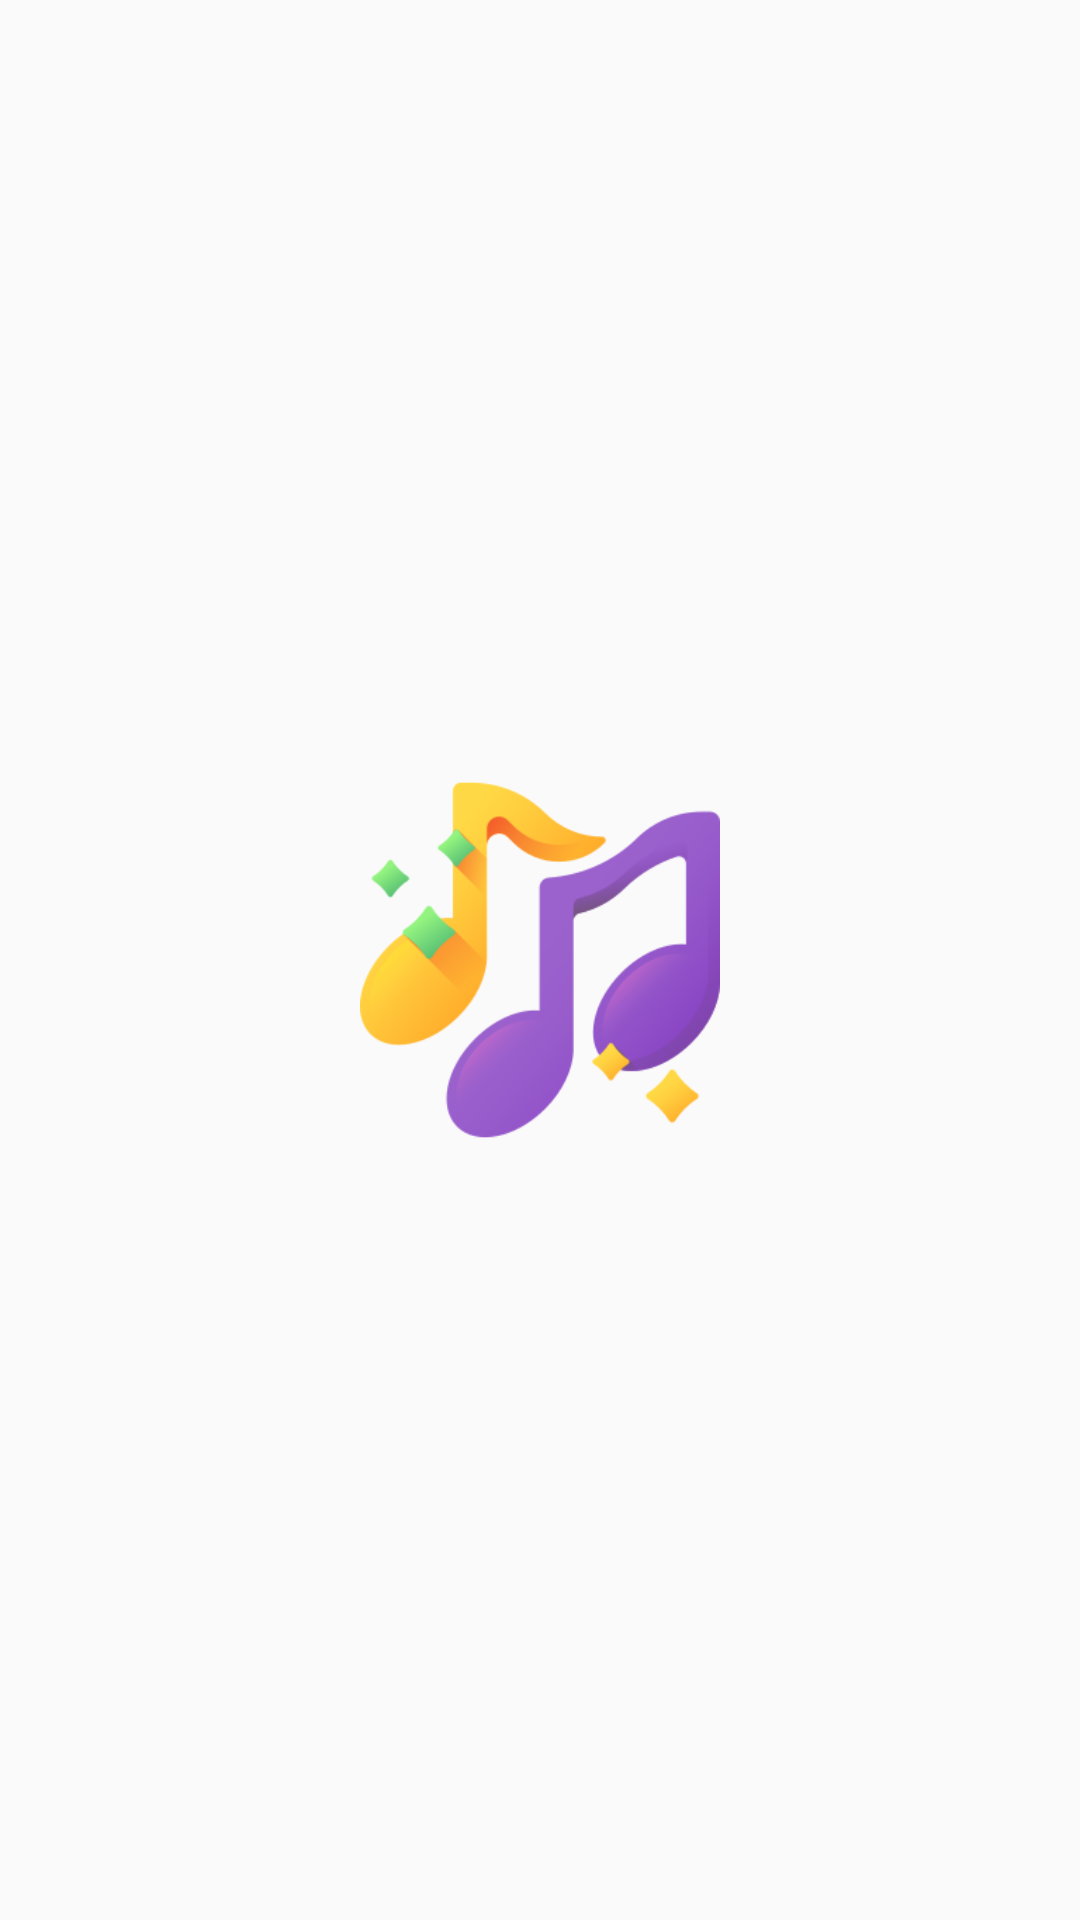

Screen size 1080w x 1920h. Icon name, then its box in pixels as (x1,y1,x2,y2):
music: (360,782,720,1138)
